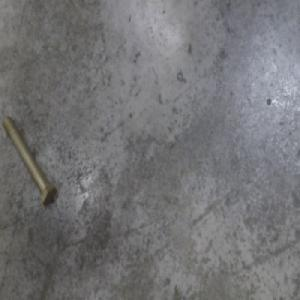Bolt: (3, 105, 56, 207)
